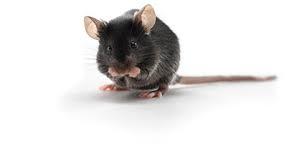mice: (82, 3, 279, 100)
